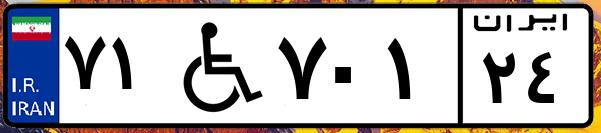0: (330, 28, 385, 110)
1: (385, 28, 445, 110), (110, 28, 158, 98)
2: (475, 38, 525, 113)
4: (525, 38, 570, 115)
7: (270, 28, 330, 110), (57, 26, 110, 100)
ژ (معلولین و جانبازان): (158, 12, 270, 120)
